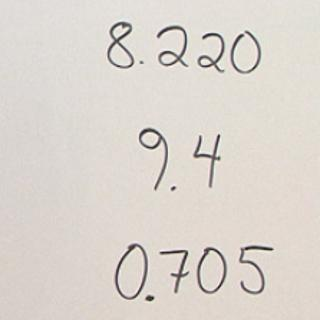.: (142, 290, 159, 305), (168, 181, 179, 196), (136, 56, 147, 69)
0: (112, 242, 149, 302), (229, 29, 262, 72), (198, 246, 226, 296)
2: (155, 21, 191, 70), (198, 30, 229, 75)
4: (193, 132, 224, 187)
5: (239, 243, 274, 298)
7: (160, 245, 193, 295)
8: (104, 21, 137, 71)
9: (135, 127, 170, 190)
